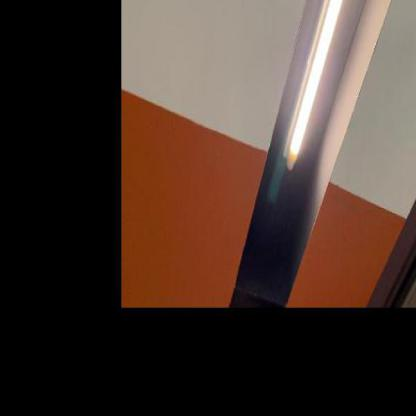light_on: (278, 0, 378, 177)
